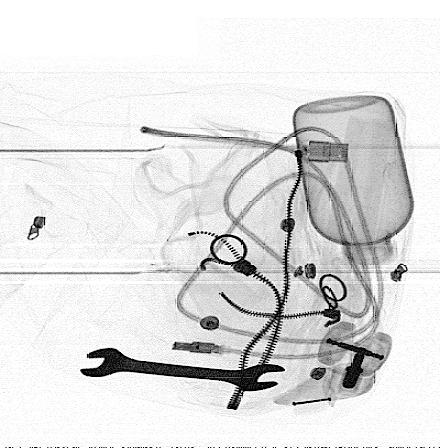Wrench: (80, 348, 287, 392)
